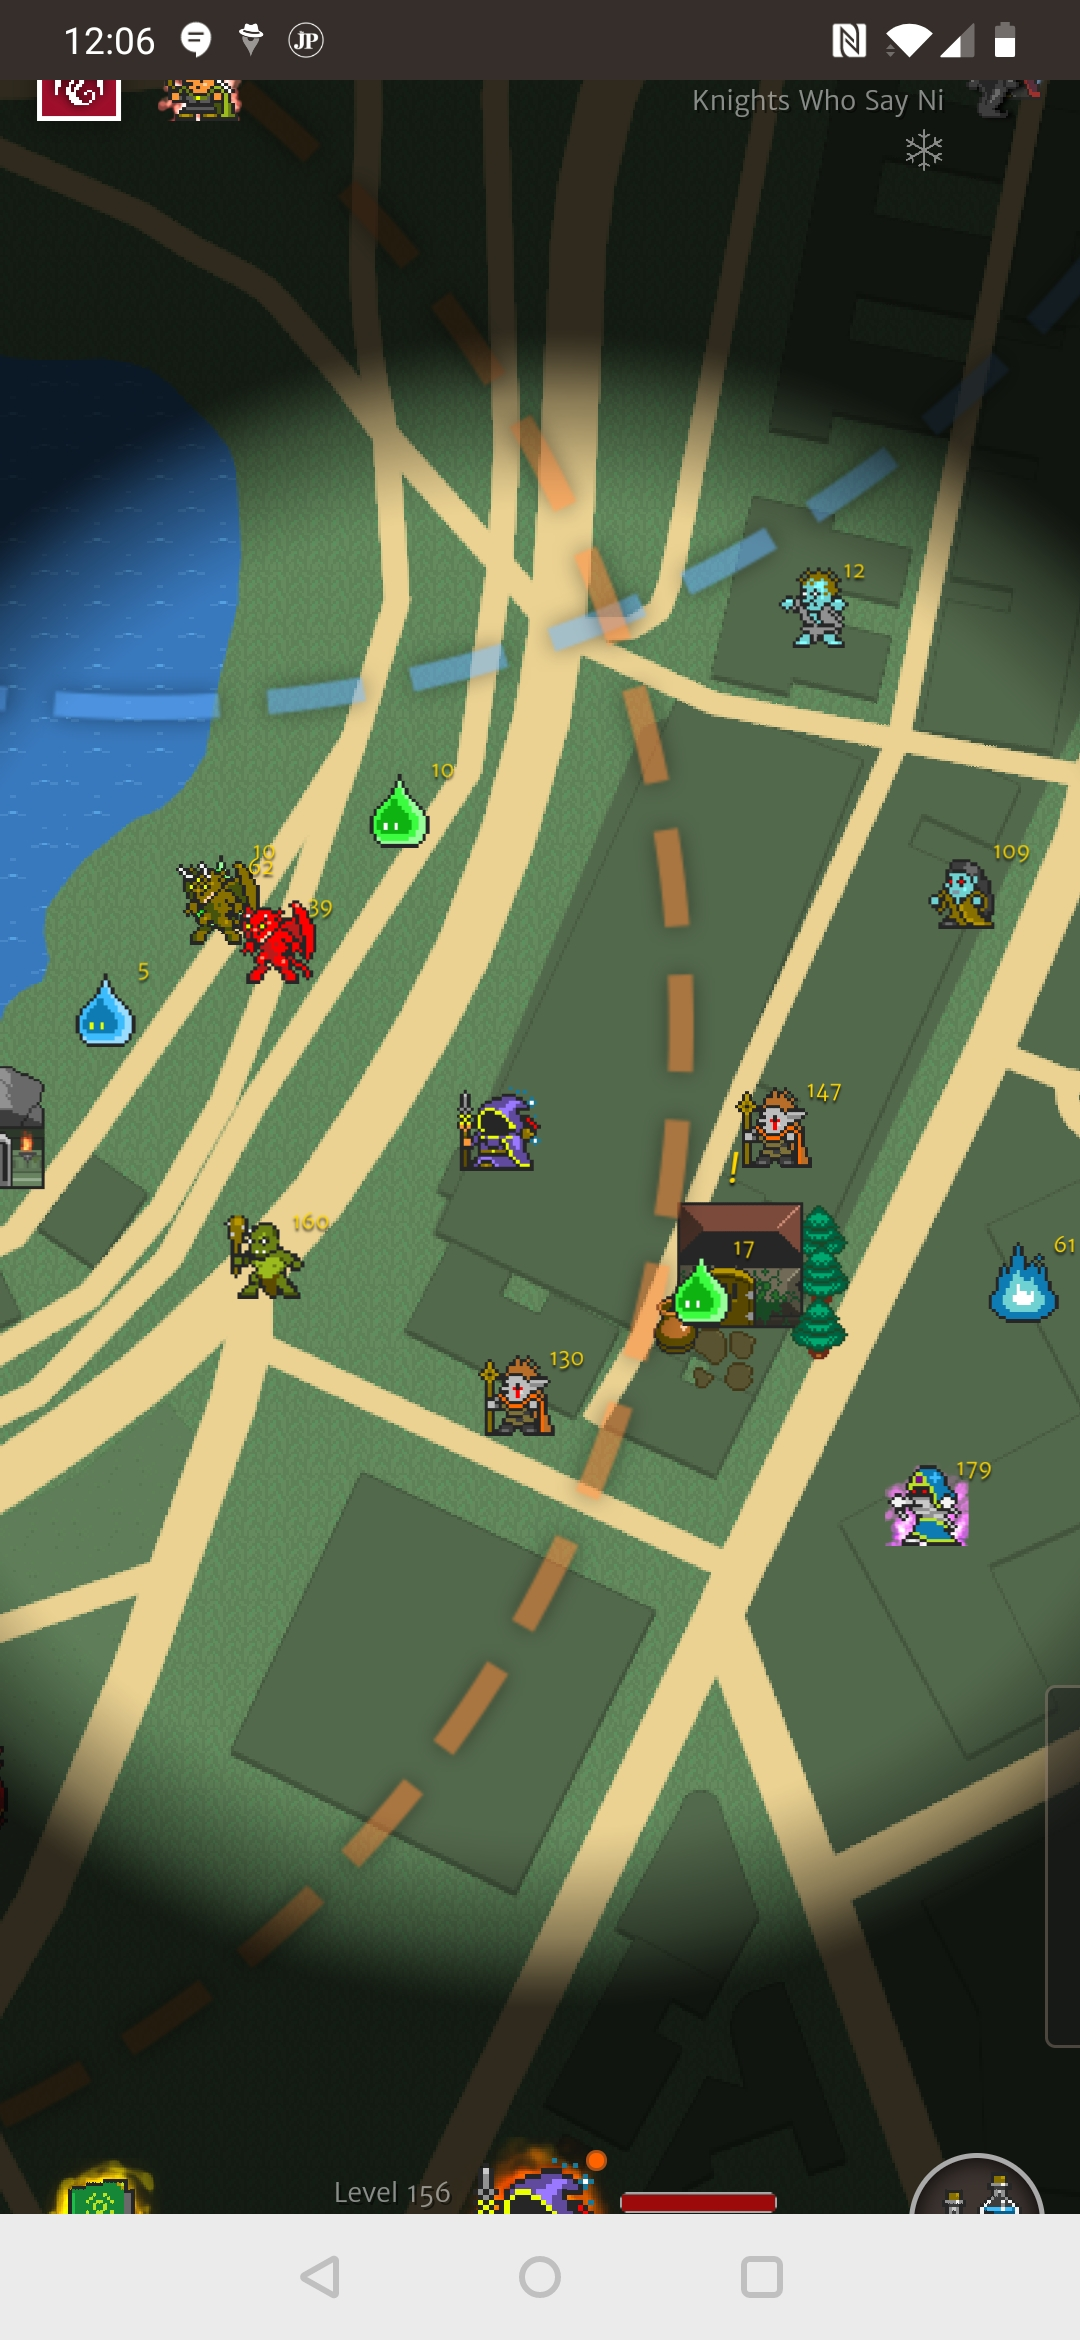monster: (725, 1075, 856, 1177), (212, 1207, 336, 1311), (915, 841, 1037, 938), (354, 753, 469, 857), (475, 1352, 588, 1448), (885, 1458, 992, 1553), (775, 560, 873, 663), (239, 901, 337, 992), (981, 1235, 1076, 1328), (69, 960, 154, 1057)
player: (456, 1091, 536, 1175)
